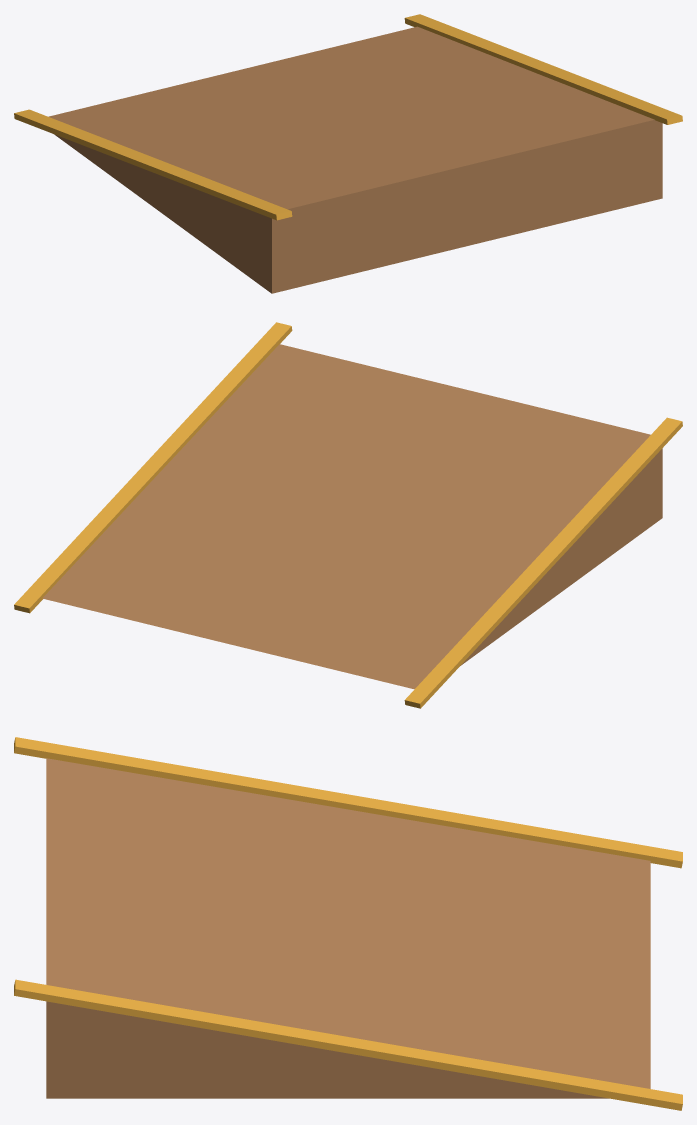
File: jump-ramp.glb
3 views of the same model, one above another, from view 1: azimuth 30°, elevation 25°; view 2: azimuth 150°, elevation 25°; view 3: azimuth 270°, elevation 25° (orthographic). The views are drawn at different scales.
Visible parts, largest first — view 1: jump; view 2: jump; view 3: jump.
Part boxes in pixels (box(x1,y1,x2,y2)): jump: box(14, 14, 682, 293); jump: box(14, 322, 682, 708); jump: box(14, 737, 682, 1110).
Bounding box in the file's own units: 7.9 × 1.78 × 8.86.
